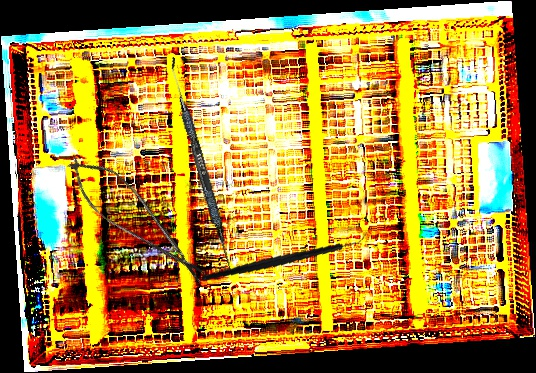Chopper: (201, 210, 370, 301)
Micro Scissor: (56, 144, 218, 294)
Spatula Surgical: (162, 56, 239, 272)
